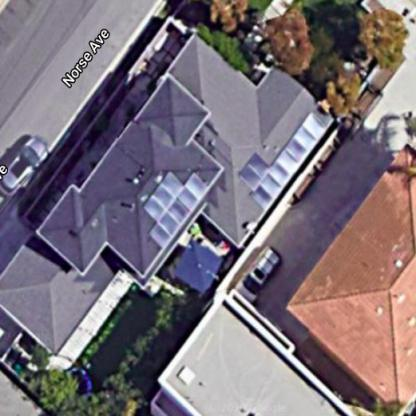car: (1, 133, 59, 192), (232, 253, 290, 306)
solar_panel: (235, 108, 349, 209), (135, 170, 227, 251)
